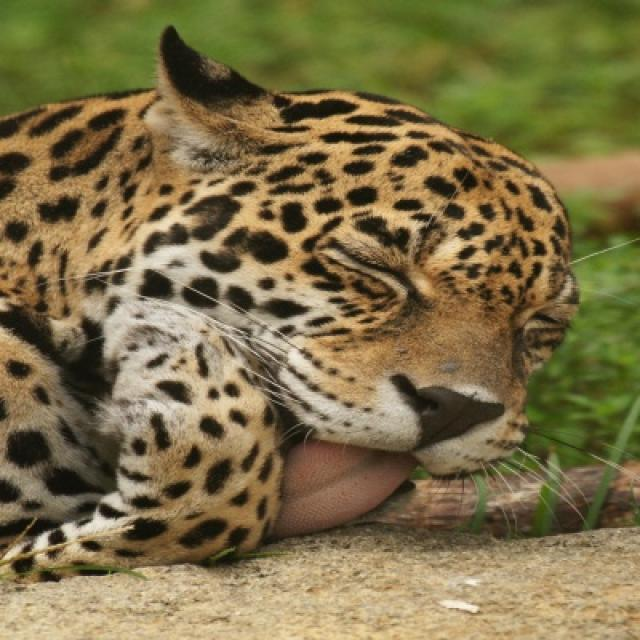Jaguar: (0, 26, 581, 590)
